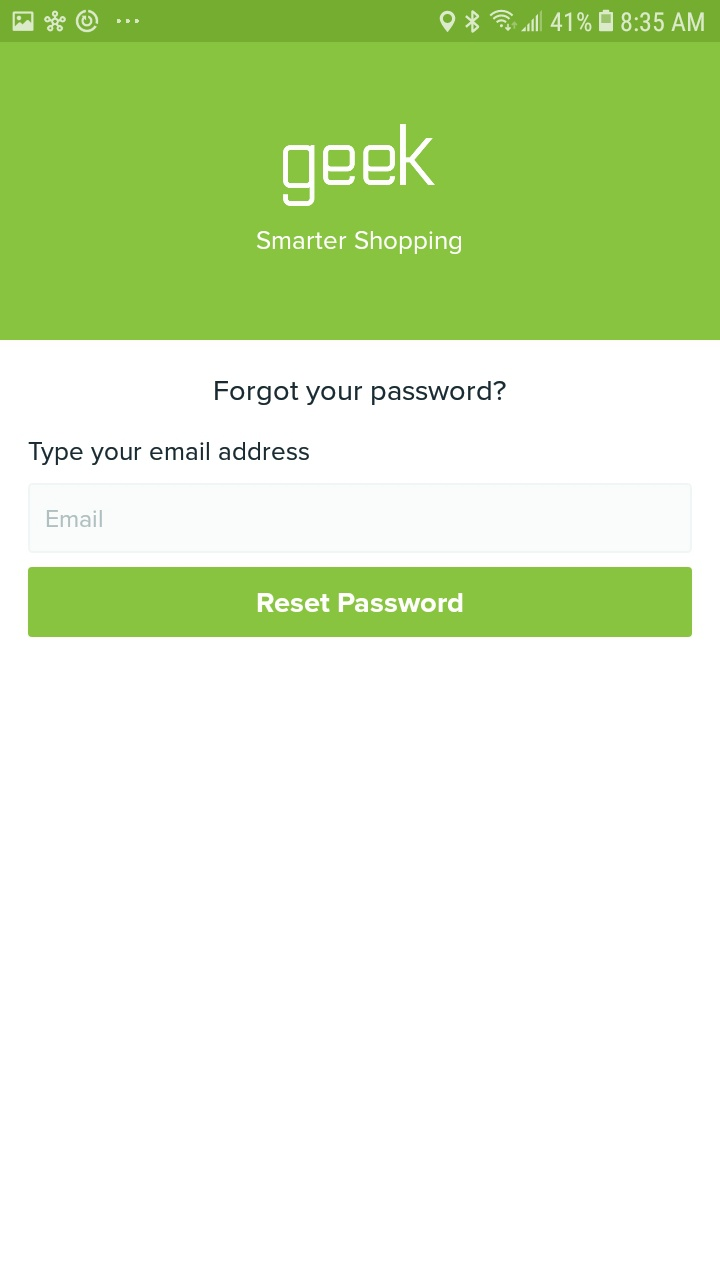EditText: (28, 483, 692, 554)
Text: (283, 124, 436, 208), (215, 381, 507, 406), (29, 442, 310, 466), (257, 231, 462, 256), (47, 510, 104, 528)
TextButton: (28, 567, 692, 638)
UpperTaskBar: (1, 1, 720, 43)
